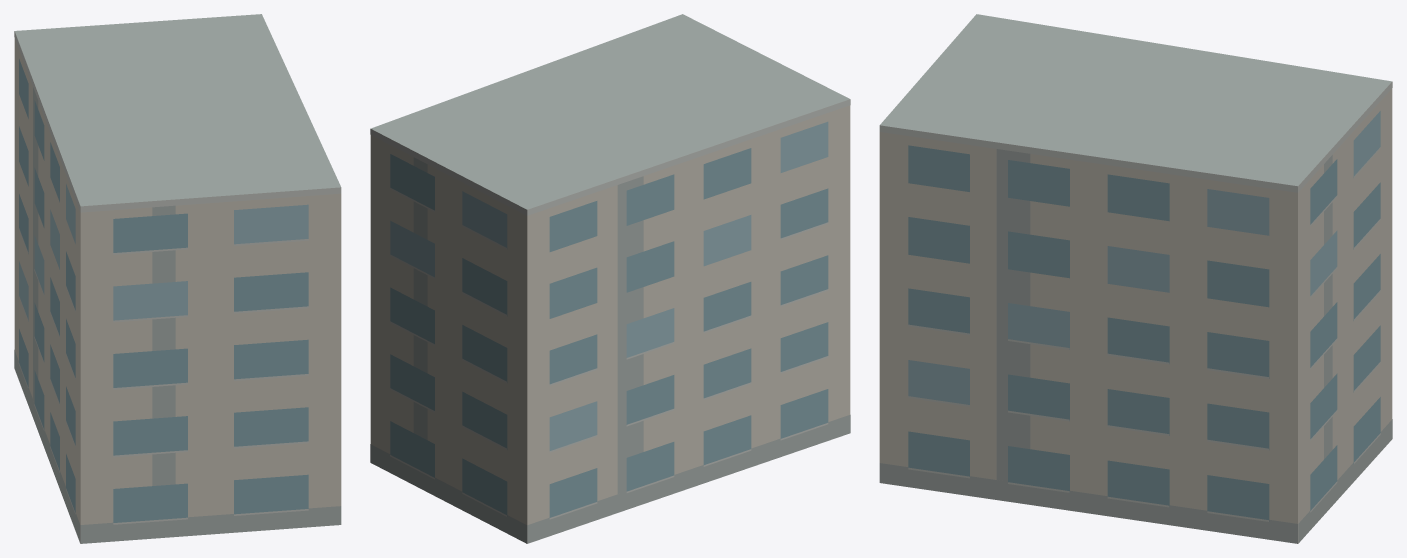
The model's file is survey-upis-32891721.glb.
The picture shows the model from 3 angles, left to right: view 1: azimuth 30°, elevation 25°; view 2: azimuth 150°, elevation 25°; view 3: azimuth 270°, elevation 25°; orthographic projection. The views are drawn at different scales.
Parts seen in each view (by area): view 1: survey-upis-32891721.tmp; view 2: survey-upis-32891721.tmp; view 3: survey-upis-32891721.tmp.
Boxes of the visible parts, <box> form: survey-upis-32891721.tmp: <box>14,14,341,543</box>; survey-upis-32891721.tmp: <box>370,14,850,543</box>; survey-upis-32891721.tmp: <box>879,14,1392,543</box>.
Bounding box in the file's own units: 13.7 × 13.25 × 17.23.
